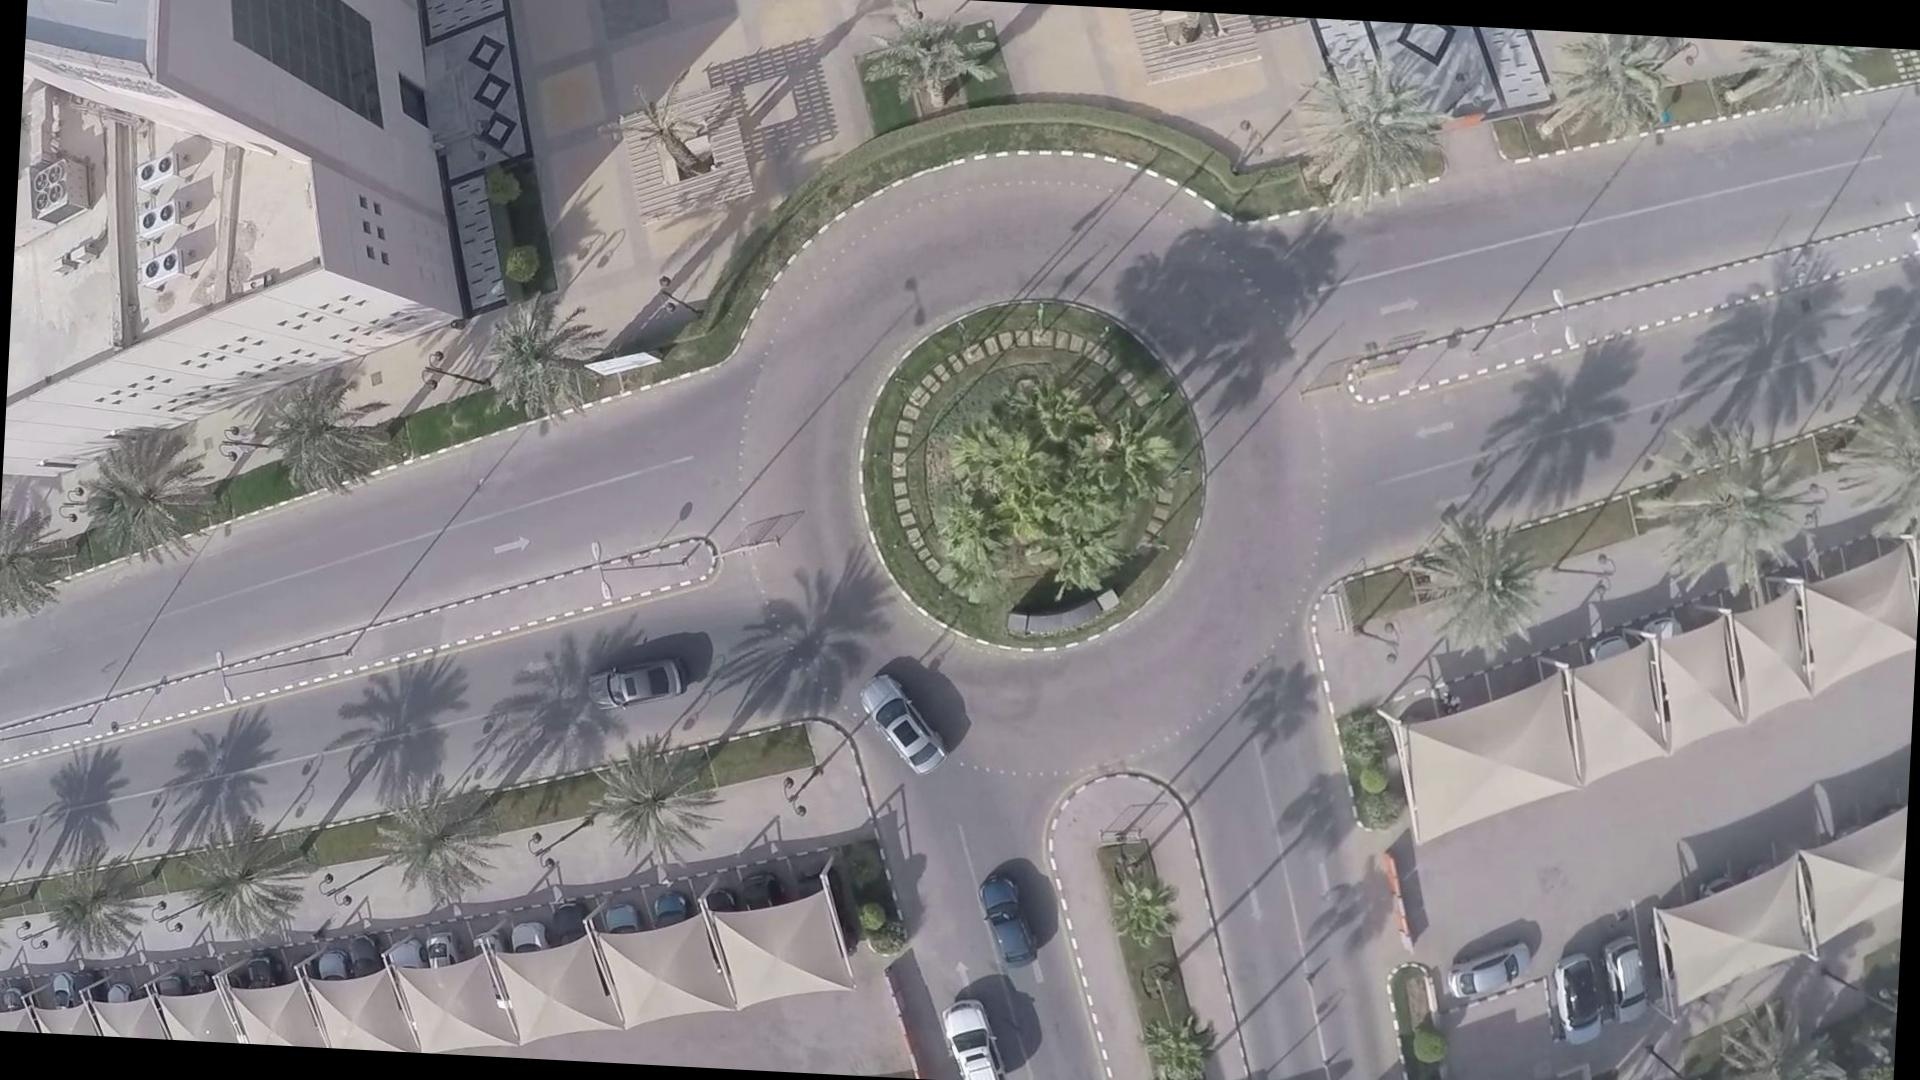vehicle: (856, 662, 948, 776), (580, 644, 696, 718), (975, 850, 1044, 964)
